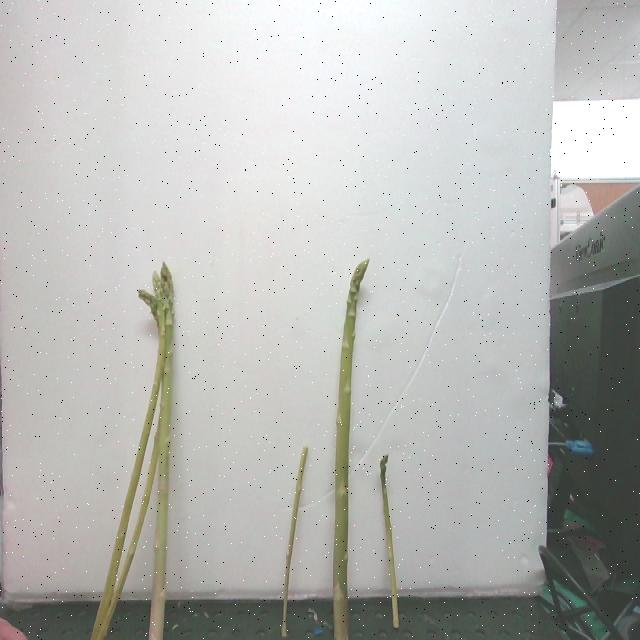aspargus: (332, 262, 370, 640), (281, 445, 310, 638), (377, 452, 400, 629)
